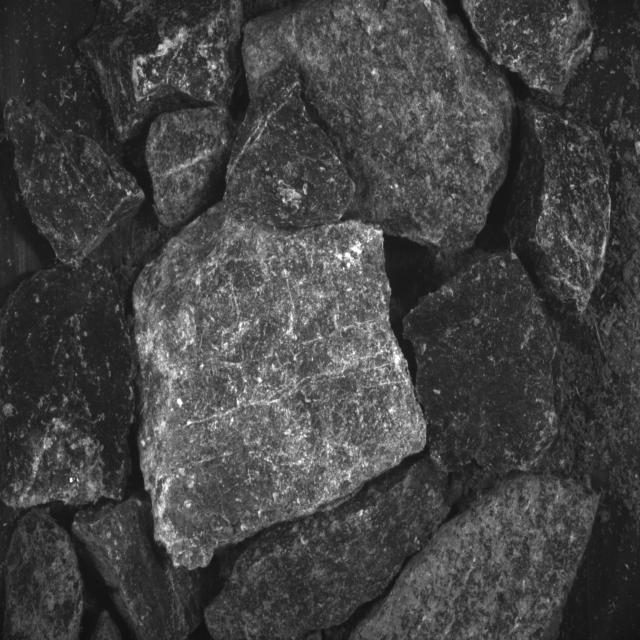Stones: (135, 207, 427, 569), (244, 1, 515, 251), (206, 461, 451, 640), (354, 476, 600, 640), (405, 254, 559, 472), (1, 265, 135, 509), (5, 99, 145, 267), (81, 1, 244, 142), (507, 105, 611, 313), (226, 64, 356, 229), (74, 498, 204, 640), (464, 1, 595, 107), (146, 107, 235, 229), (5, 510, 84, 640)
